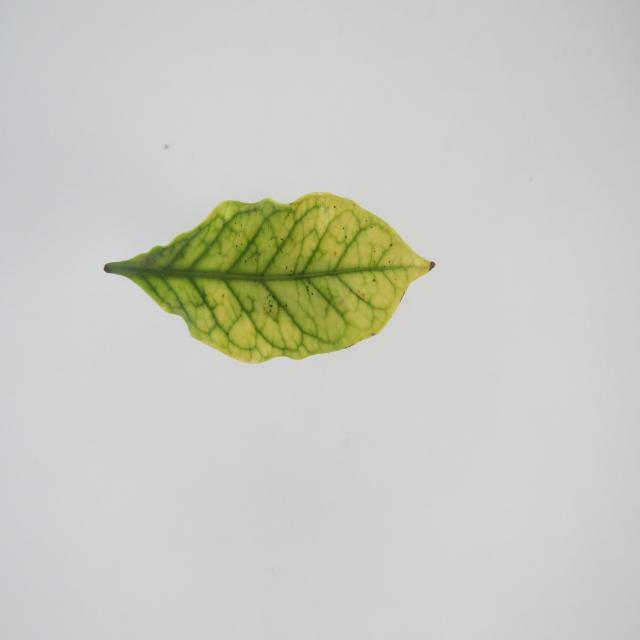DeficienciaNutricional-Hierro: (104, 193, 433, 363)
